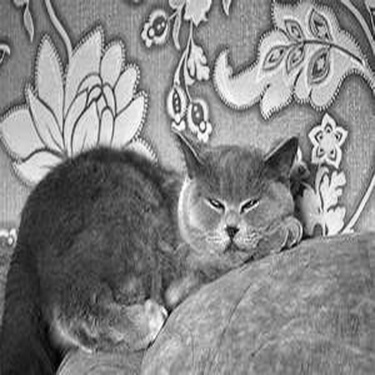cat: (1, 126, 301, 373)
